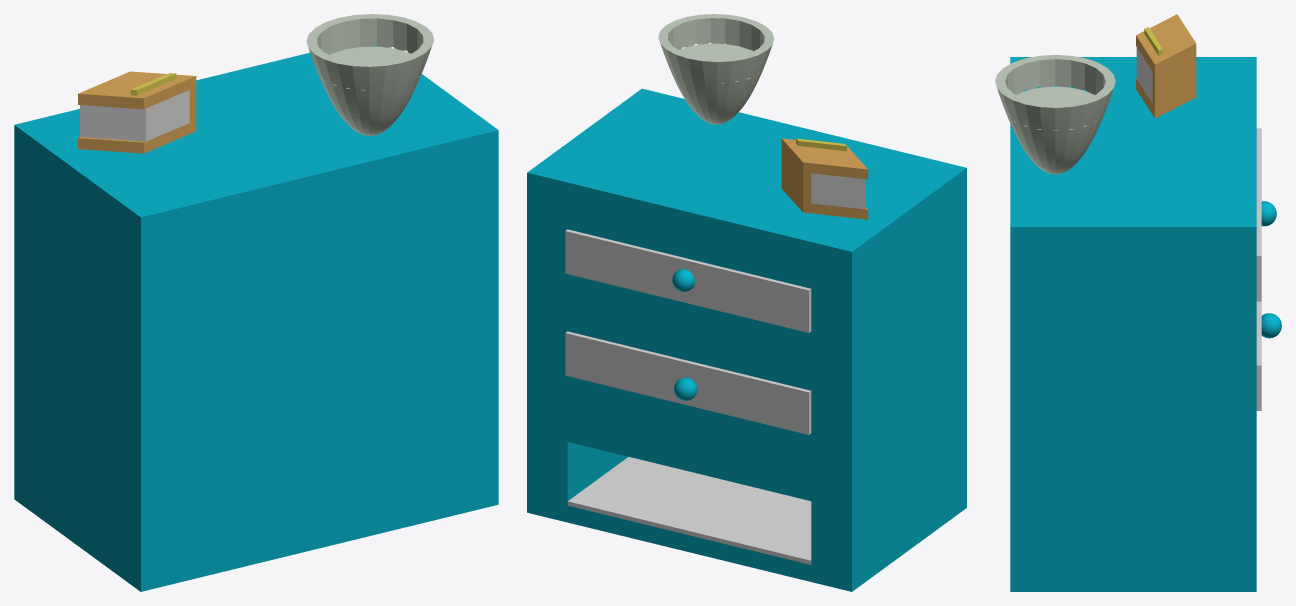
The picture shows the model from 3 angles, left to right: view 1: azimuth 30°, elevation 25°; view 2: azimuth 150°, elevation 25°; view 3: azimuth 270°, elevation 25°; orthographic projection. The views are drawn at different scales.
Visible parts, largest first — view 1: Mesh_Mesh_head_geo.001_lambert2SG.001; view 2: Mesh_Mesh_head_geo.001_lambert2SG.001; view 3: Mesh_Mesh_head_geo.001_lambert2SG.001.
Boxes of the visible parts, box(x1,y1,x2,y2) form: Mesh_Mesh_head_geo.001_lambert2SG.001: box(14, 14, 498, 591); Mesh_Mesh_head_geo.001_lambert2SG.001: box(527, 14, 966, 591); Mesh_Mesh_head_geo.001_lambert2SG.001: box(995, 14, 1281, 591).
Bounding box in the file's own units: 80 × 101 × 57.
